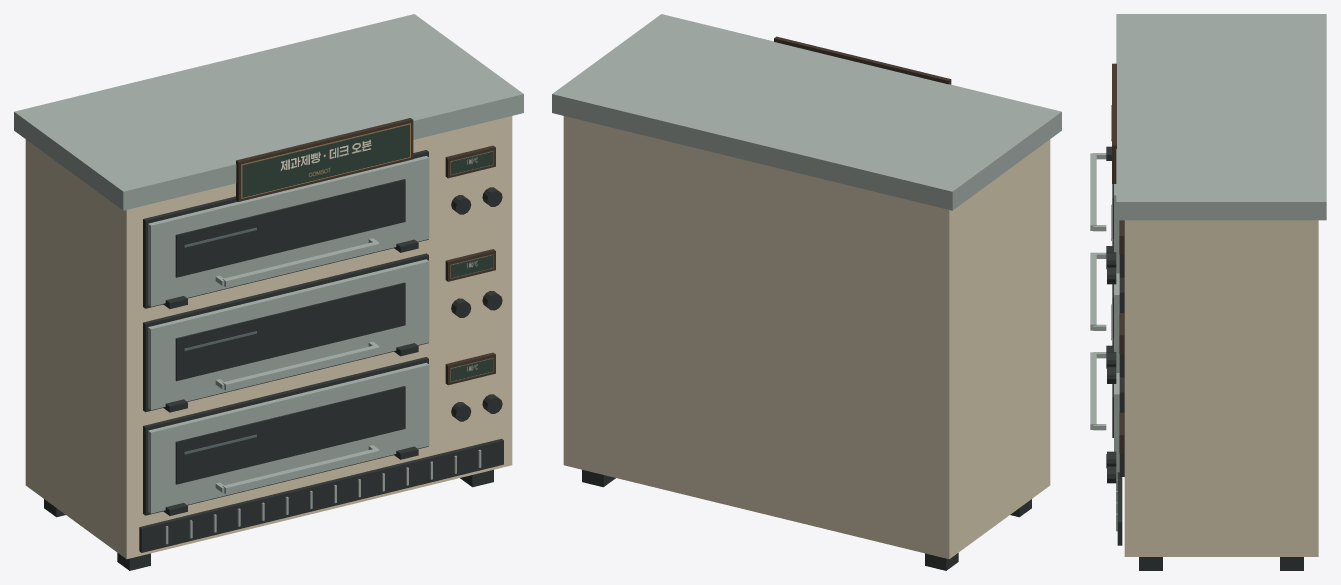
Rendered from 02_Three_Deck_Oven.fbx.
3 renders of one model, left to right at view 1: azimuth 30°, elevation 25°; view 2: azimuth 150°, elevation 25°; view 3: azimuth 270°, elevation 25°, orthographic. The views are drawn at different scales.
Parts seen in each view (by area): view 1: 02_Three_Deck_Oven__Structure, 02_Three_Deck_Oven; view 2: 02_Three_Deck_Oven__Structure; view 3: 02_Three_Deck_Oven__Structure, 02_Three_Deck_Oven.
Part boxes in pixels (x1=…): 02_Three_Deck_Oven__Structure: x1=14, y1=14, x2=523, y2=570; 02_Three_Deck_Oven: x1=148, y1=156, x2=429, y2=513; 02_Three_Deck_Oven__Structure: x1=552, y1=14, x2=1061, y2=570; 02_Three_Deck_Oven__Structure: x1=1106, y1=14, x2=1326, y2=570; 02_Three_Deck_Oven: x1=1090, y1=105, x2=1119, y2=472.
Bounding box in the file's own units: 243 × 230 × 129.
2 materials, 2 textured.
